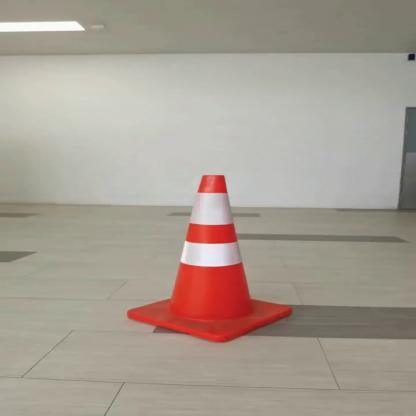cone: (114, 169, 301, 346)
